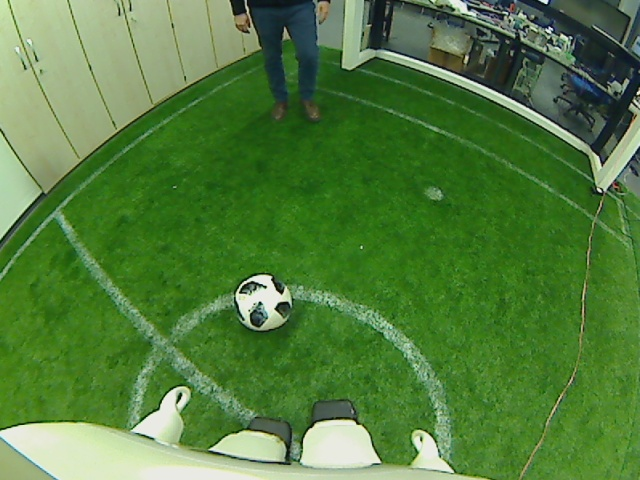ball: (233, 274, 294, 331)
